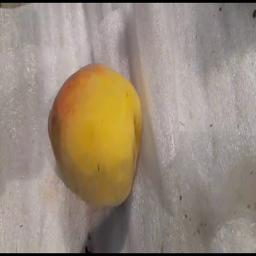Peach Semifresh: (34, 59, 158, 212)
